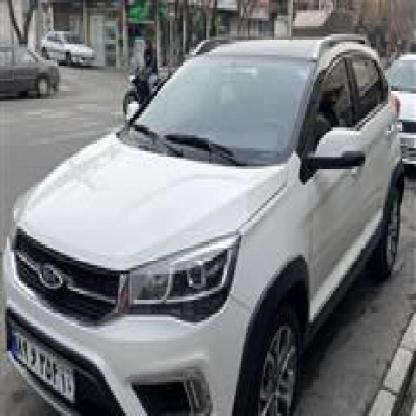car: (0, 34, 413, 413), (0, 26, 63, 107), (378, 44, 414, 180), (47, 26, 92, 70)
